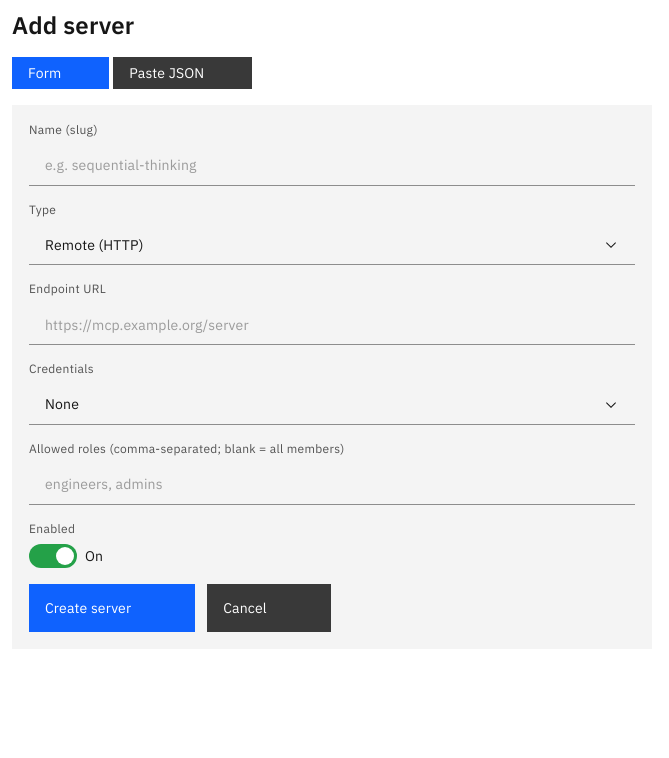
Test: ServerForm › requires a command for stdio servers
In the field labelled "Name (slug)": (332, 166) [29, 146, 635, 186], type "thinking"
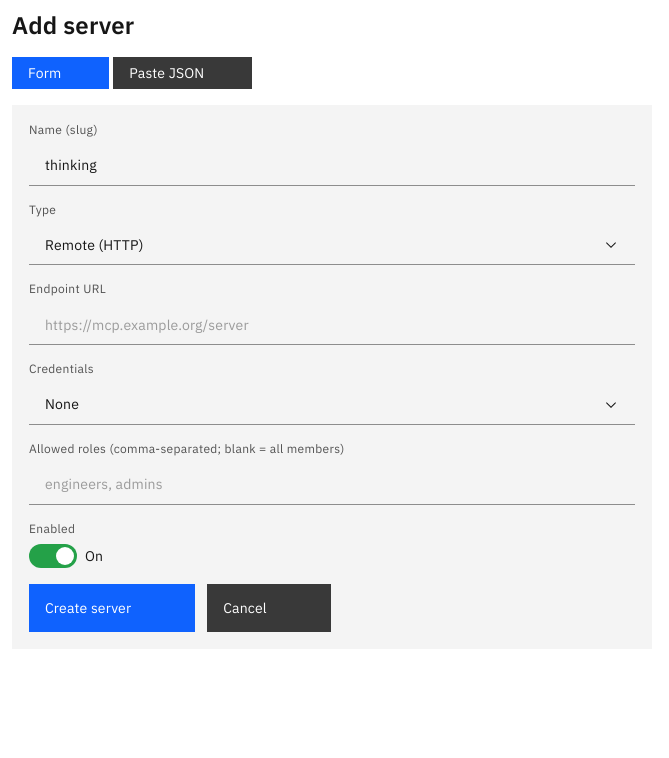
Select "Stdio (sandboxed)" in the dropdown labelled "Type": (332, 245) [29, 225, 635, 265]
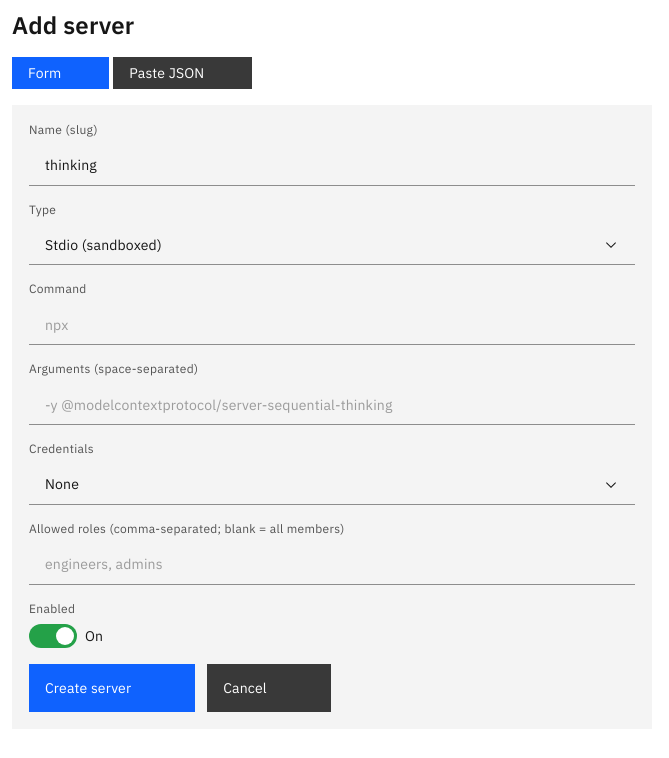
Click the button "Create server": (112, 688) [29, 664, 195, 712]
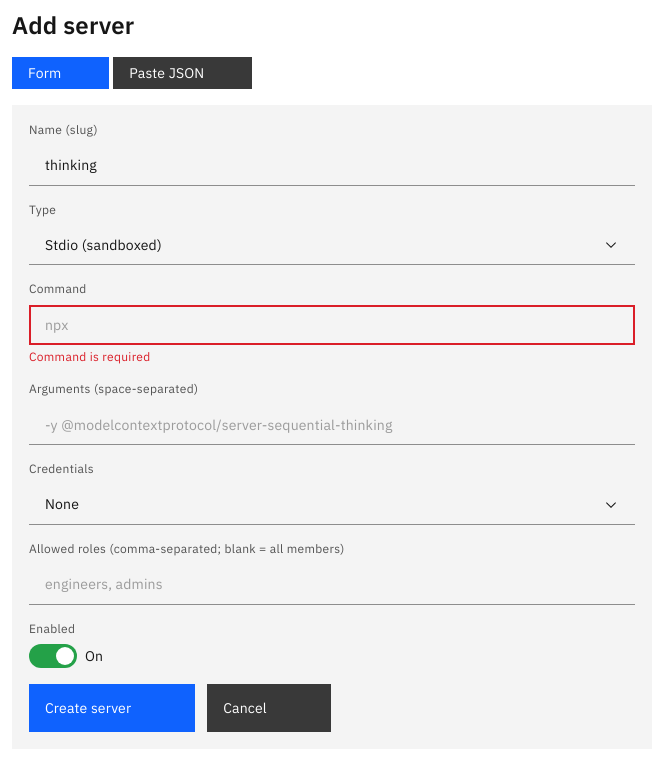
expect the text "Command is required" is shown: met, box [29, 349, 150, 364]
